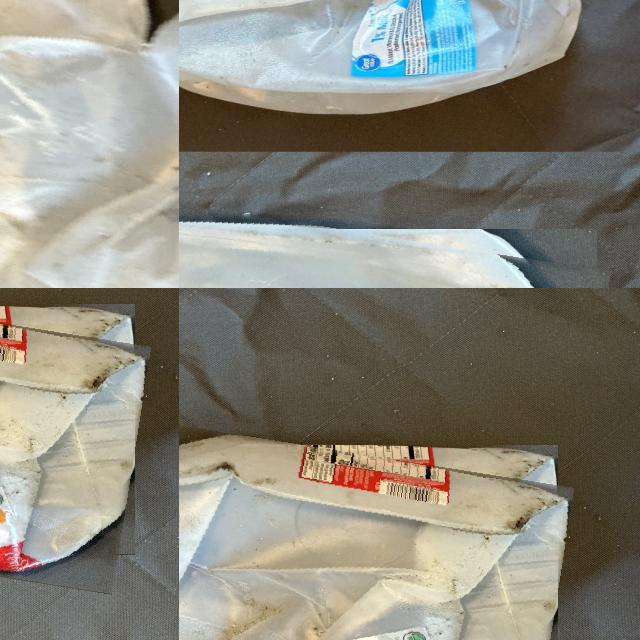milk-jug: (179, 425, 566, 640), (0, 0, 179, 288), (179, 0, 586, 112), (0, 288, 143, 574), (179, 207, 604, 288)
